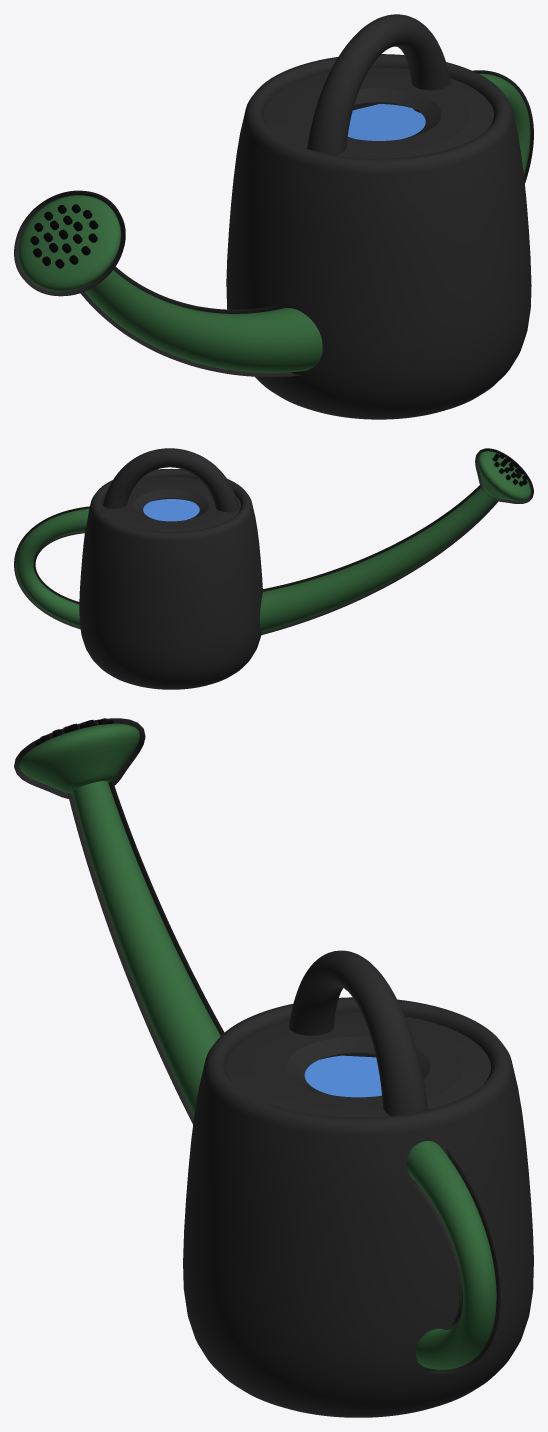
Rendered from wateringcan.fbx.
3 renders of one model, top to bottom at view 1: azimuth 30°, elevation 25°; view 2: azimuth 150°, elevation 25°; view 3: azimuth 270°, elevation 25°, orthographic. The views are drawn at different scales.
Parts seen in each view (by area): view 1: Can_Body, Can_Spout, Can_Rose, Can_HandleTop, Plane, Can_HandleBack, Can_RoseHoles; view 2: Can_Body, Can_Spout, Can_HandleBack, Can_HandleTop, Can_Rose, Plane, Can_RoseHoles; view 3: Can_Body, Can_Spout, Can_HandleBack, Can_HandleTop, Can_Rose, Plane.
Part boxes in pixels (<box>): Can_Body: <box>226,54,531,419</box>; Can_Spout: <box>80,266,322,376</box>; Can_Rose: <box>14,190,125,296</box>; Can_HandleTop: <box>307,14,450,155</box>; Plane: <box>347,104,425,140</box>; Can_HandleBack: <box>472,70,533,182</box>; Can_RoseHoles: <box>30,204,98,268</box>; Can_Body: <box>79,468,262,689</box>; Can_Spout: <box>259,485,498,635</box>; Can_HandleBack: <box>14,506,89,629</box>; Can_HandleTop: <box>103,448,239,512</box>; Can_Rose: <box>475,448,533,503</box>; Plane: <box>143,499,199,521</box>; Can_RoseHoles: <box>492,453,527,486</box>; Can_Body: <box>183,997,533,1417</box>; Can_Spout: <box>68,780,224,1124</box>; Can_HandleBack: <box>406,1141,500,1373</box>; Can_HandleTop: <box>289,950,427,1115</box>; Can_Rose: <box>14,718,145,798</box>; Plane: <box>304,1055,381,1097</box>.
Size of the model in its own units: 297 by 152 by 171.
